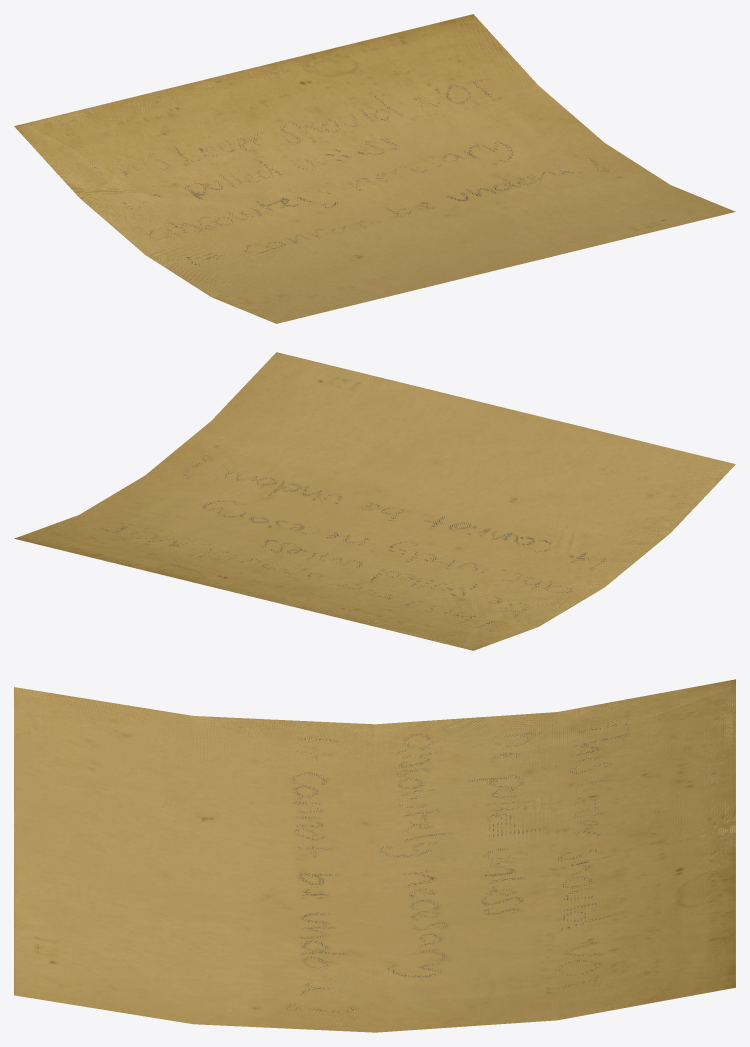
File: note_postit_flow_control.dae
3 views of the same model, one above another, from view 1: azimuth 30°, elevation 25°; view 2: azimuth 150°, elevation 25°; view 3: azimuth 270°, elevation 25° (orthographic). The views are drawn at different scales.
Parts seen in each view (by area): view 1: Mesh; view 2: Mesh; view 3: Mesh.
Part boxes in pixels (x1,y1,x2,y2): Mesh: (14, 14, 735, 323); Mesh: (14, 352, 735, 650); Mesh: (14, 679, 735, 1032).
Size of the model in its own units: 0.125 by 0.0085 by 0.1237.
